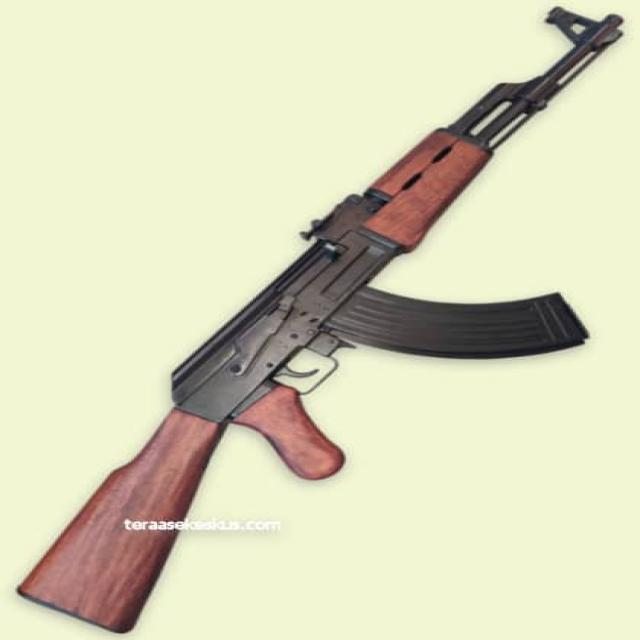weapon: (18, 4, 629, 636)
